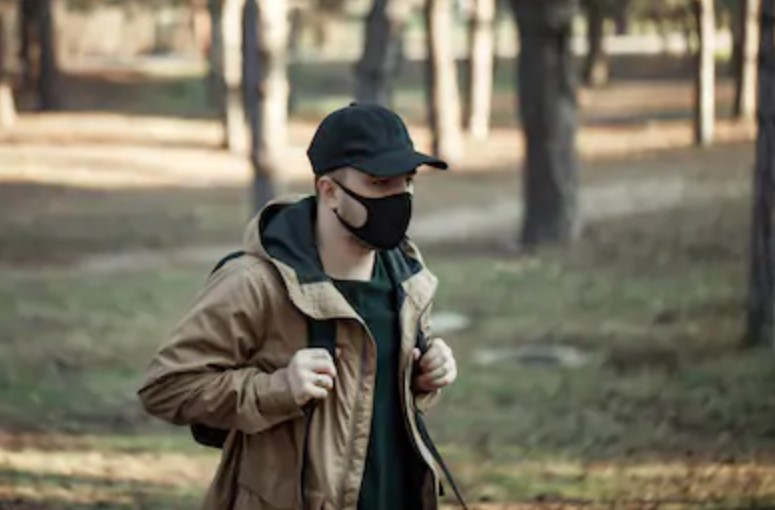face_with_mask: (309, 101, 449, 253)
